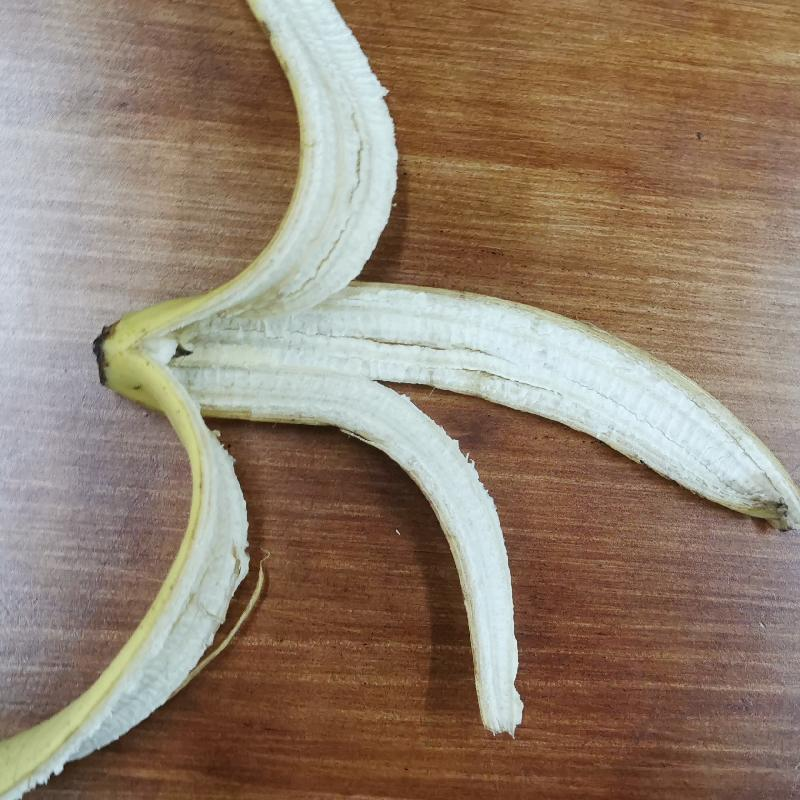bananas: (8, 1, 798, 799)
